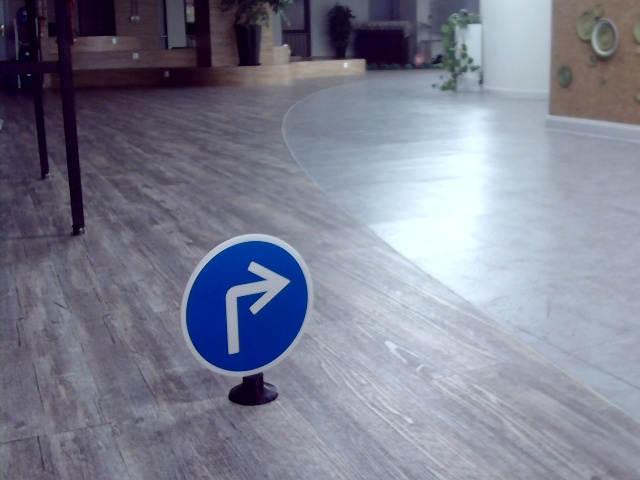turn_right: (215, 261, 287, 353)
